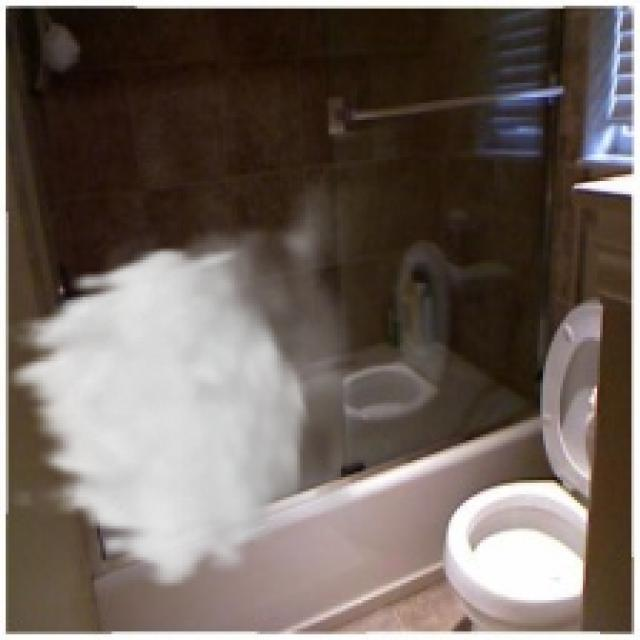Smoke: (0, 172, 383, 592)
